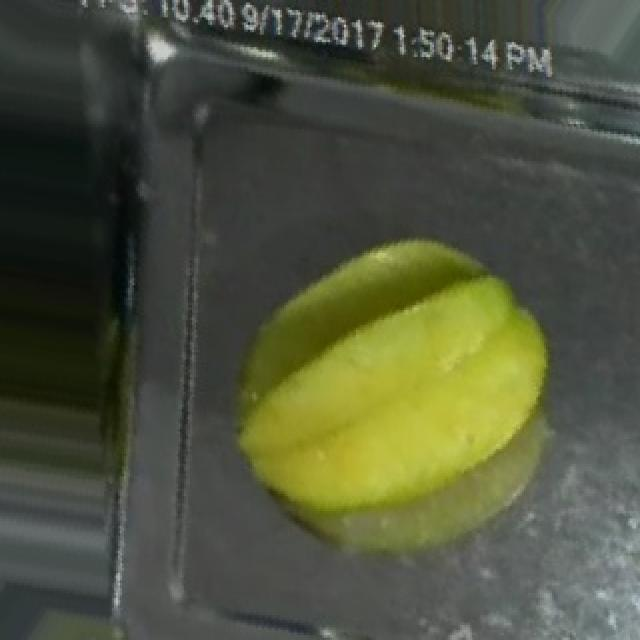fruit: (204, 176, 588, 593)
